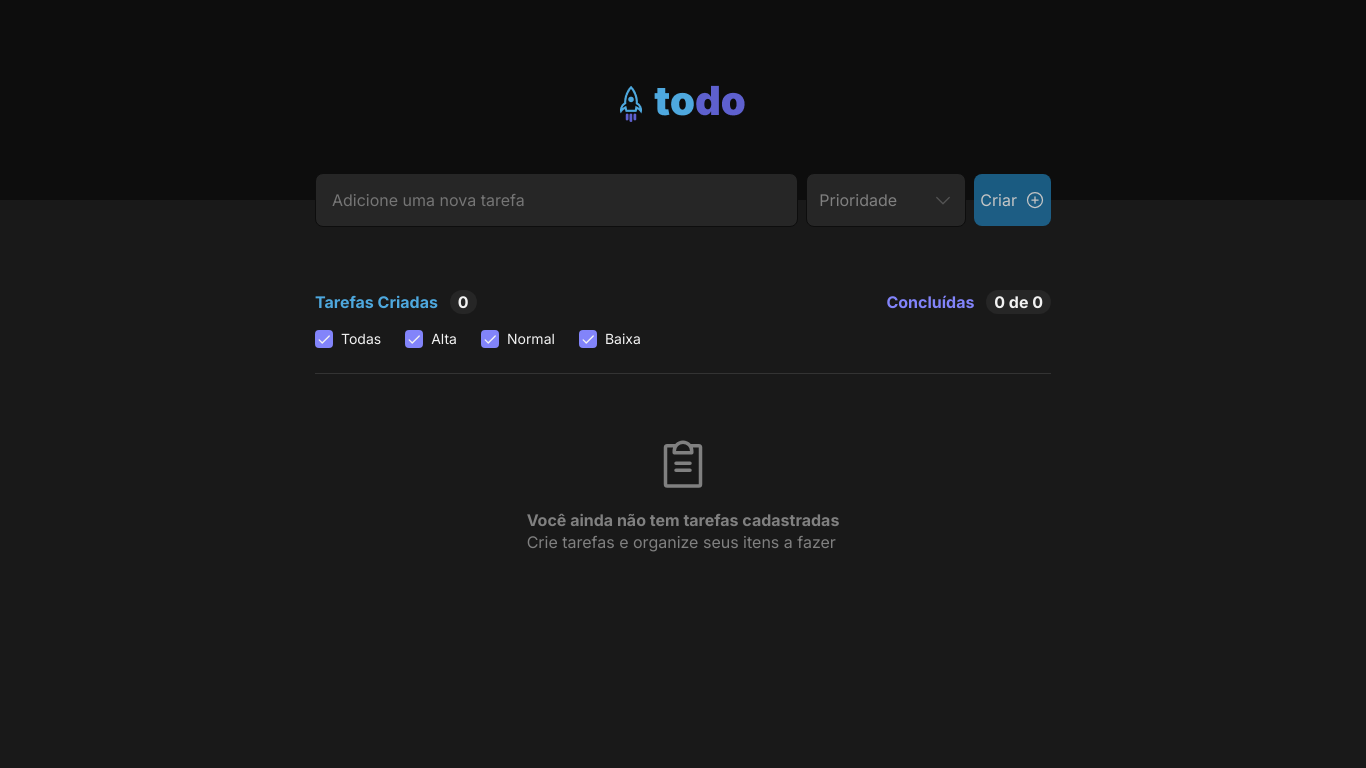
it: Edit a task › should not be able to submit invalid values
Type "Task test" into the field named "description" at (557,200), box 315,173 -> 798,227
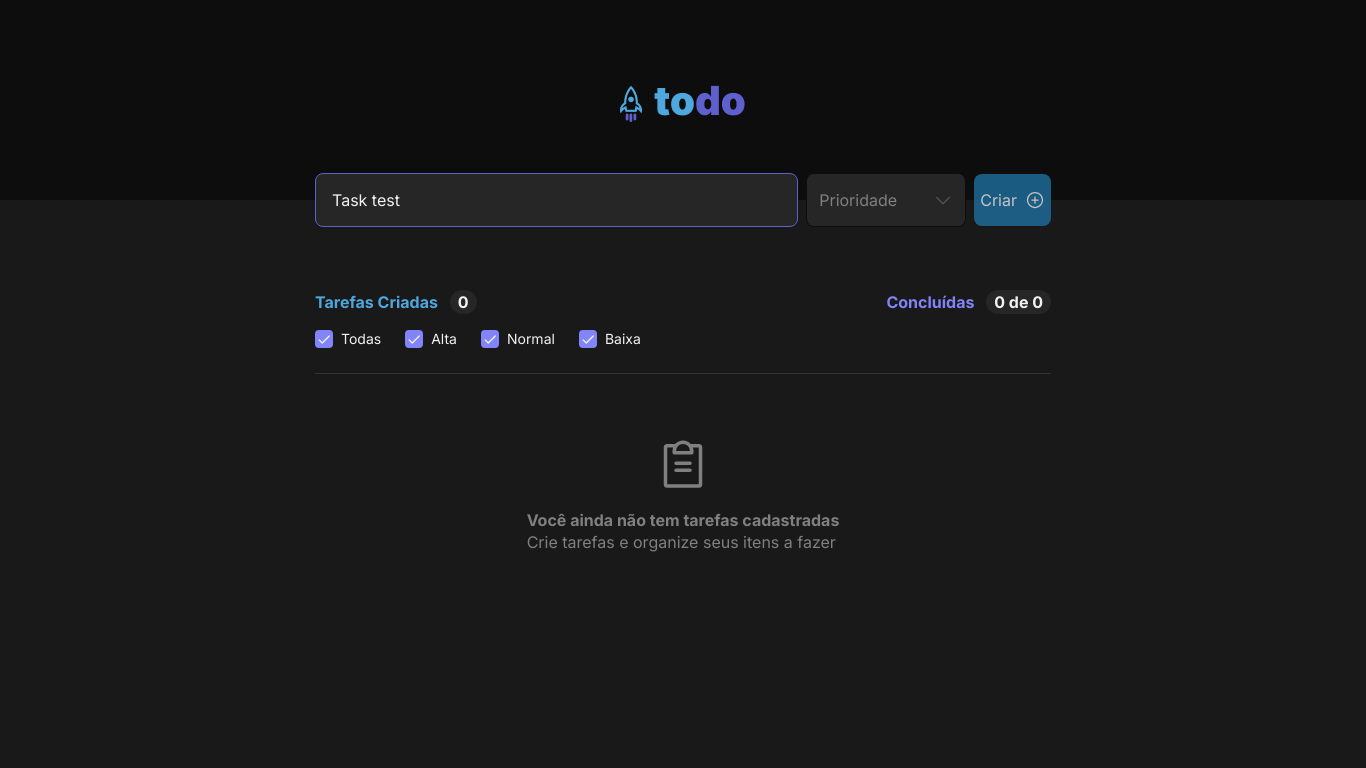
Click the dropdown labelled "Prioridade" at (886,200), box 806,173 -> 966,227
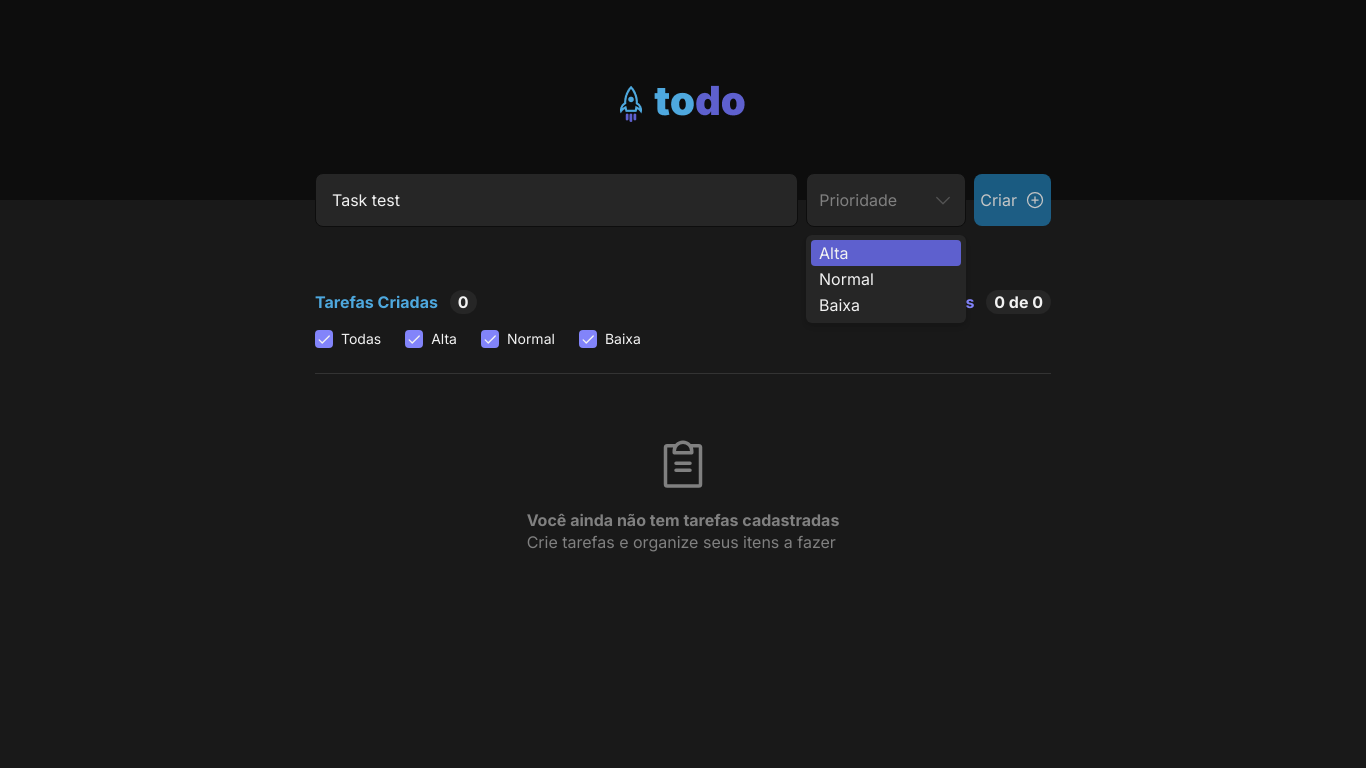
Click the option with aria-label "Alta" at (886,253), box 811,240 -> 961,266
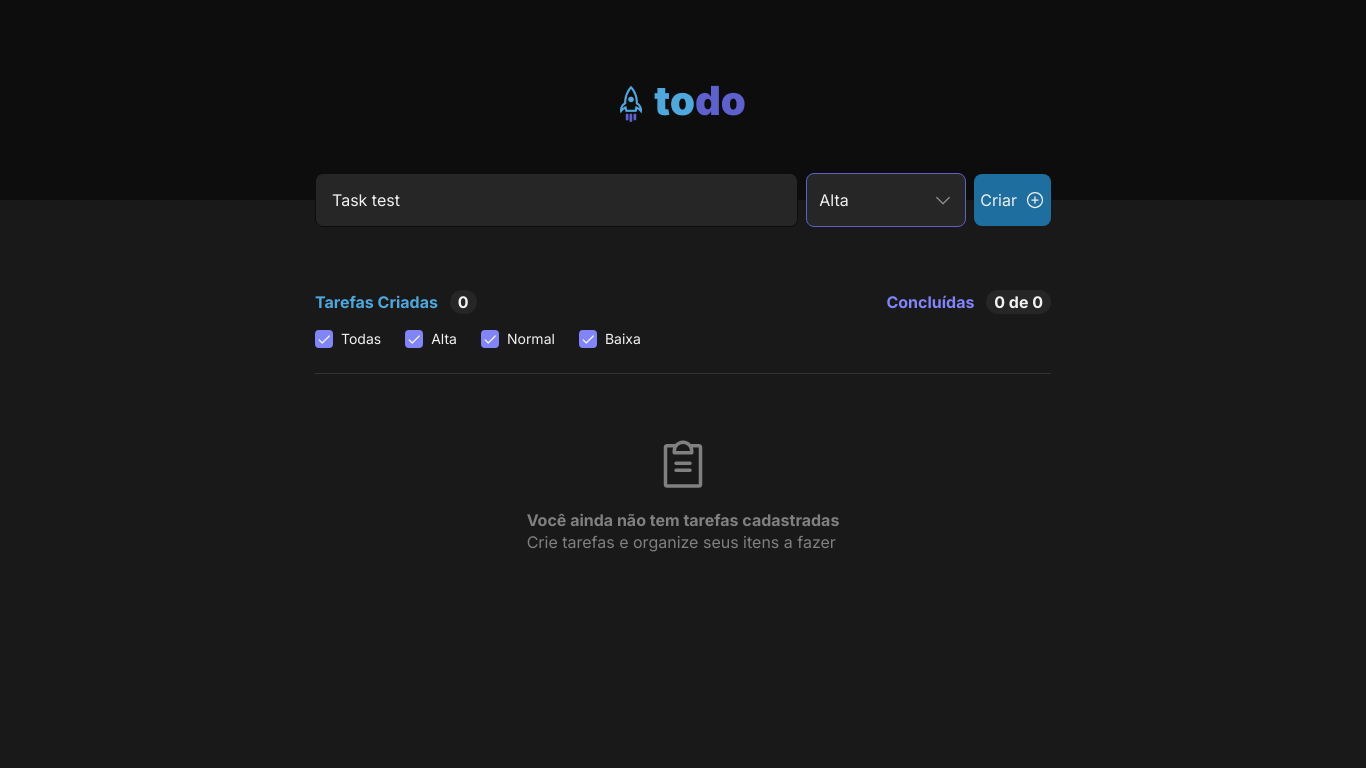
Click the button "Criar" at (1013,200), box 974,174 -> 1051,226
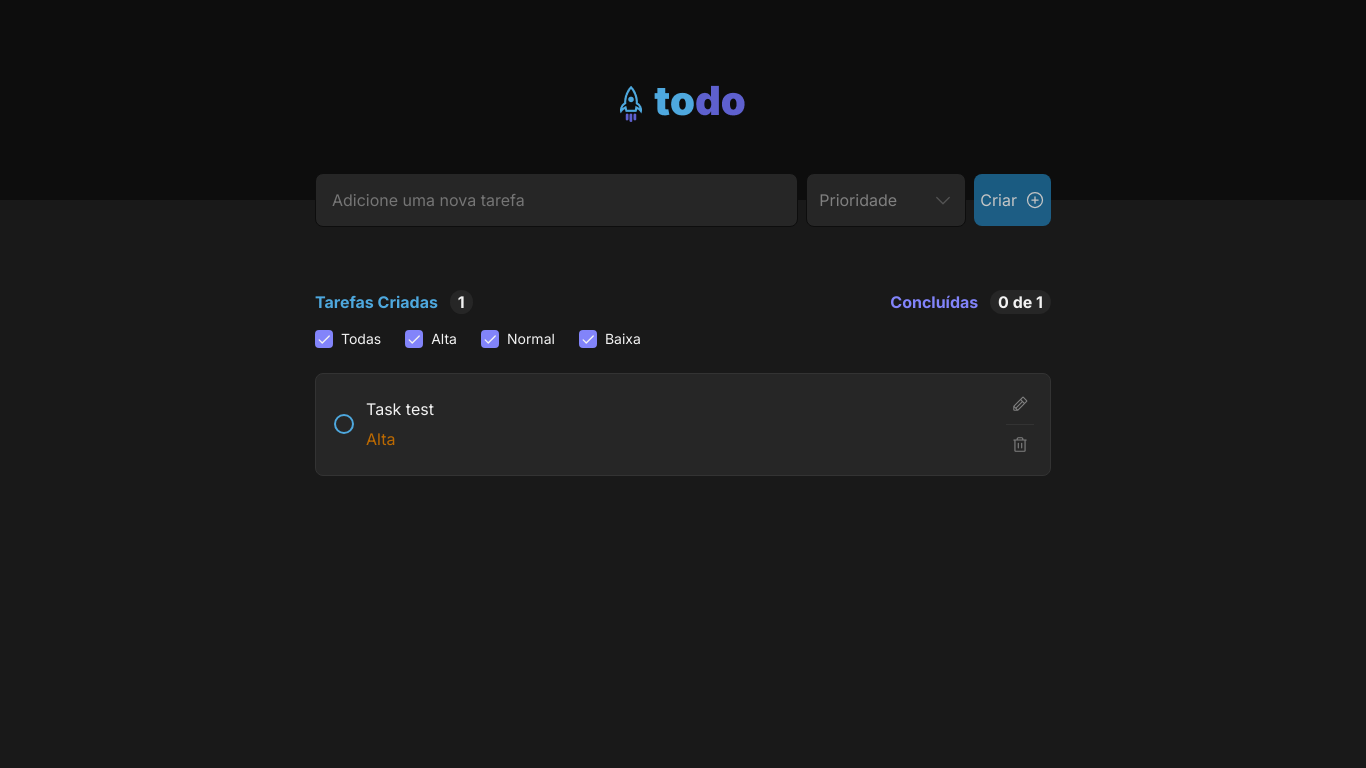
Click the button named "Editar tarefa" at (1020,404), box 1006,390 -> 1034,418
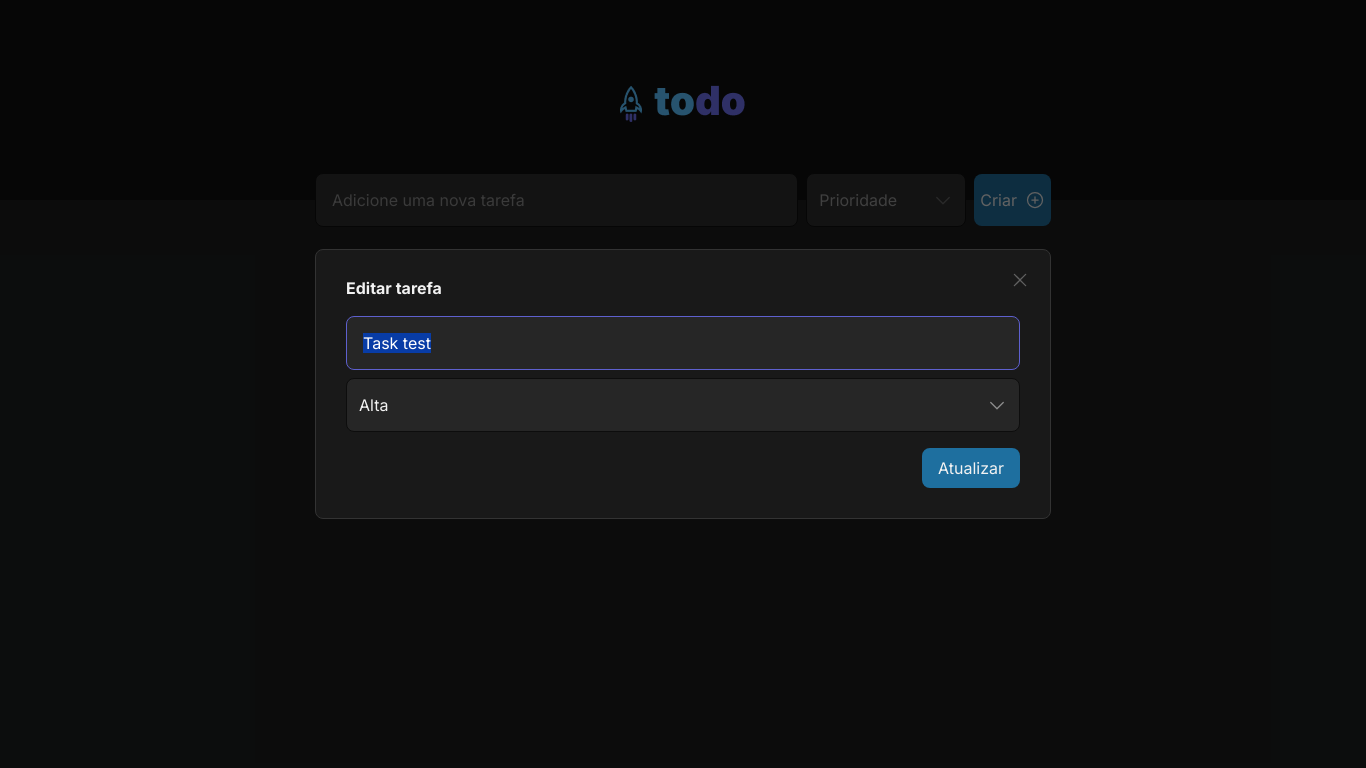
Clear the field named "description" at (683,343), box 346,316 -> 1020,370
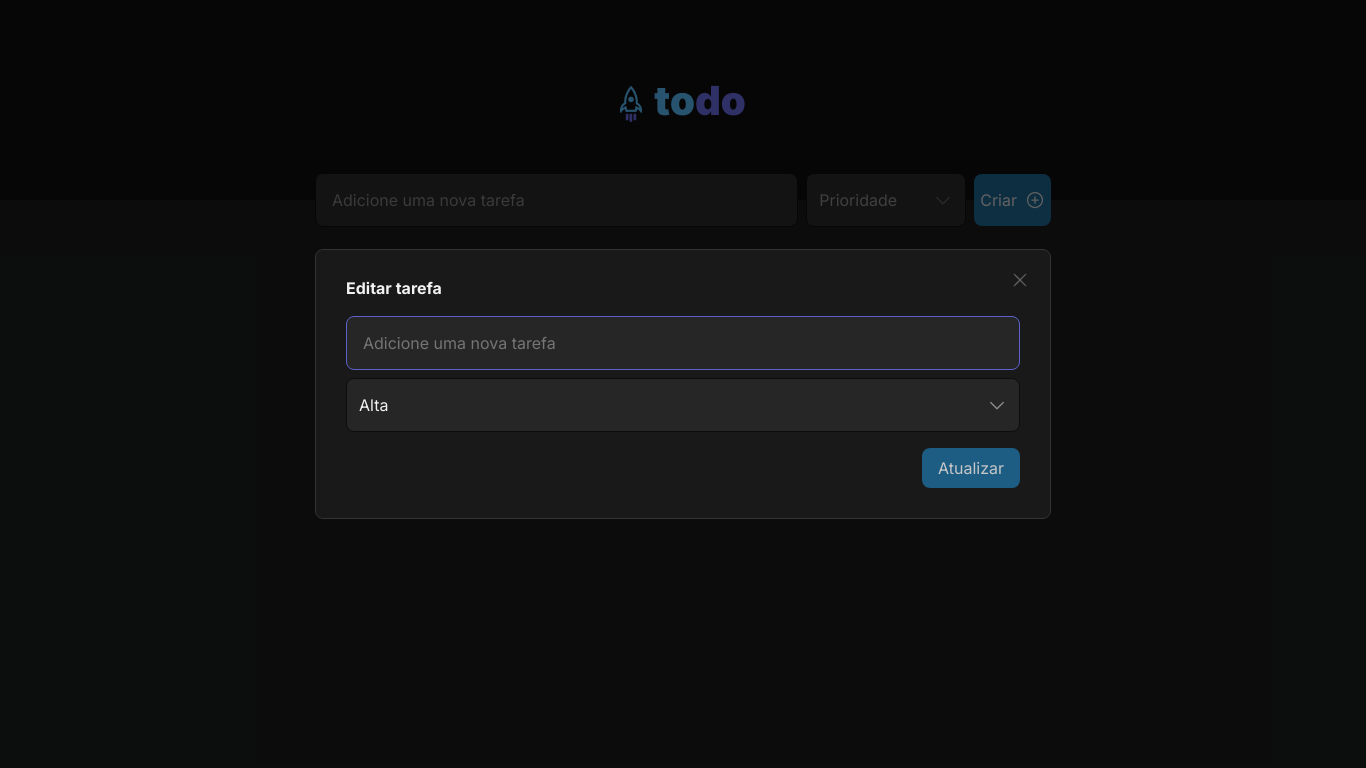
Expected: the button "Atualizar" is disabled, 922,448 -> 1020,488
